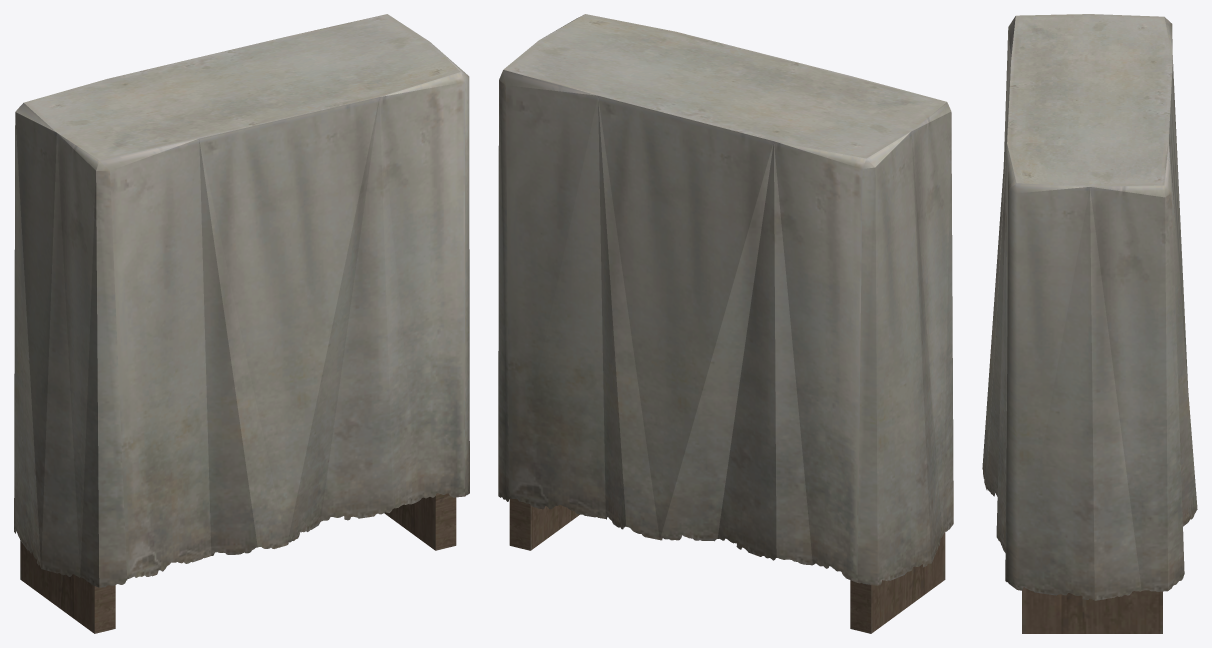
Rendered from bg_lut_lucastle_furniture01_sm_artree.FBX.
The picture shows the model from 3 angles, left to right: view 1: azimuth 30°, elevation 25°; view 2: azimuth 150°, elevation 25°; view 3: azimuth 270°, elevation 25°; orthographic projection. The views are drawn at different scales.
Visible parts, largest first — view 1: bg_lut_lucastle_furniture01_sm_artree; view 2: bg_lut_lucastle_furniture01_sm_artree; view 3: bg_lut_lucastle_furniture01_sm_artree.
Boxes of the visible parts, box(x1,y1,x2,y2) form: bg_lut_lucastle_furniture01_sm_artree: box(14, 14, 469, 633); bg_lut_lucastle_furniture01_sm_artree: box(498, 14, 953, 633); bg_lut_lucastle_furniture01_sm_artree: box(982, 14, 1197, 633).
Bounding box in the file's own units: 177 × 200 × 86.56.
